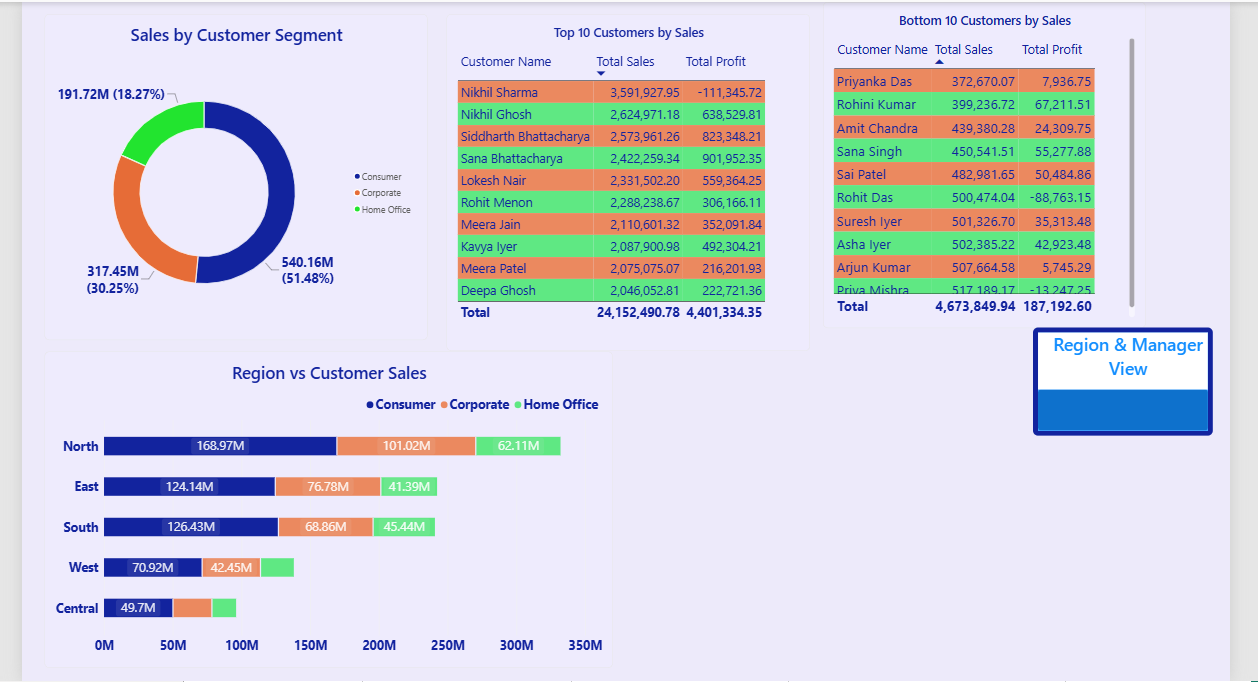

What the dashboard file says about the page in this screenshot:
{"tool":"powerbi","page":{"name":"Customer Insights","canvas":[1920,1080],"ordinal":1},"visuals":[{"type":"donutChart","title":"Sales by Customer Segment","fields":{"Category":["Orders.Segment"],"Y":["Orders.Total Sales"]},"box":[36.9,19.8,609.5,518.7],"z":0},{"type":"tableEx","title":"Top 10 Customers by Sales","fields":{"Values":["Orders.Customer Name","Orders.Total Sales","Orders.Total Profit"]},"box":[674.7,19.8,578.3,535.8],"z":1000},{"type":"tableEx","title":"Bottom 10 Customers by Sales","fields":{"Values":["Orders.Customer Name","Orders.Total Sales","Orders.Total Profit"]},"box":[1274.1,0,513.1,518.7],"z":2000},{"type":"barChart","title":"Region vs Customer Sales","fields":{"Category":["Orders.Region"],"Series":["Orders.Segment"],"Y":["Orders.Total Sales"]},"box":[35.8,555.9,904.3,503.4],"z":3000},{"type":"actionButton","title":"Region & Manager View","box":[1608.1,517.7,286.3,171.8],"z":4000}]}

Visuals, with their boxes on the page's 1920x1080 design canvas (x1, y1, x2, y2). These are canvas units, not pixel positions in the 1258x682 screenshot, which may show the page scaled, cropped or inside an application window:
"Sales by Customer Segment" donutChart: (37,20,646,538)
"Top 10 Customers by Sales" tableEx: (675,20,1253,556)
"Bottom 10 Customers by Sales" tableEx: (1274,0,1787,519)
"Region vs Customer Sales" barChart: (36,556,940,1059)
"Region & Manager View" actionButton: (1608,518,1894,690)
